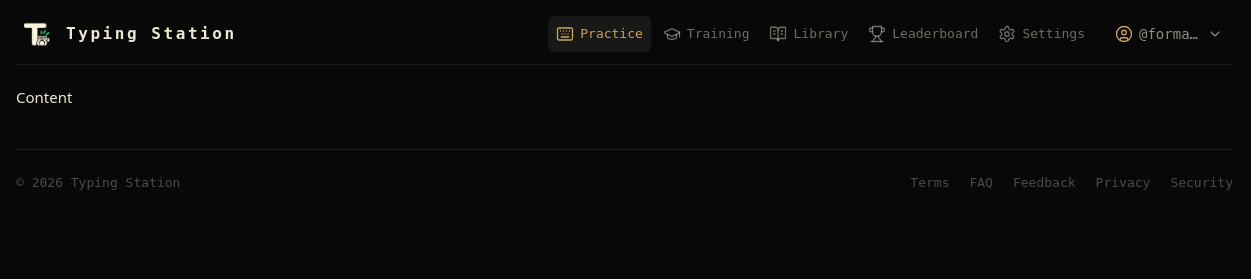
AppShell account dropdown › shows an authenticated account dropdown with profile links
Expected: the link "Profile" is not shown
Click the button with aria-label "account menu": [1169, 34] box [1105,18,1233,50]
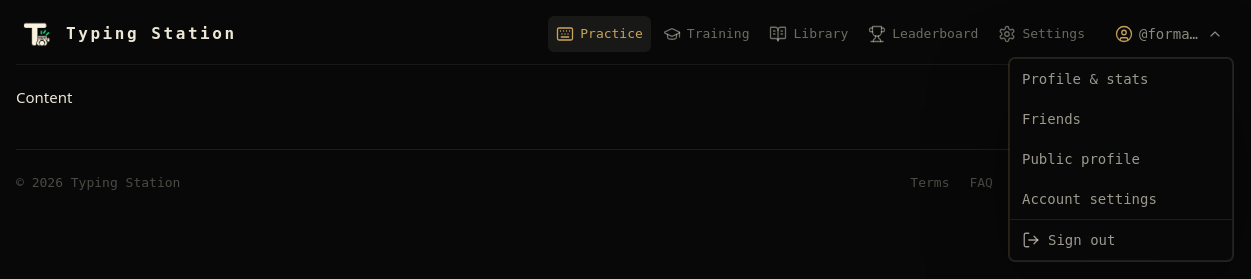
Click the menu item "Profile & stats": [1085, 79] box [1022,71,1148,87]
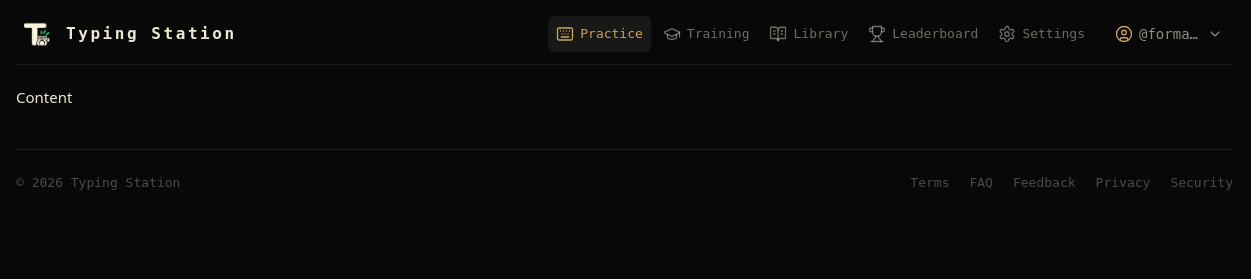
Expected: the menu is gone
